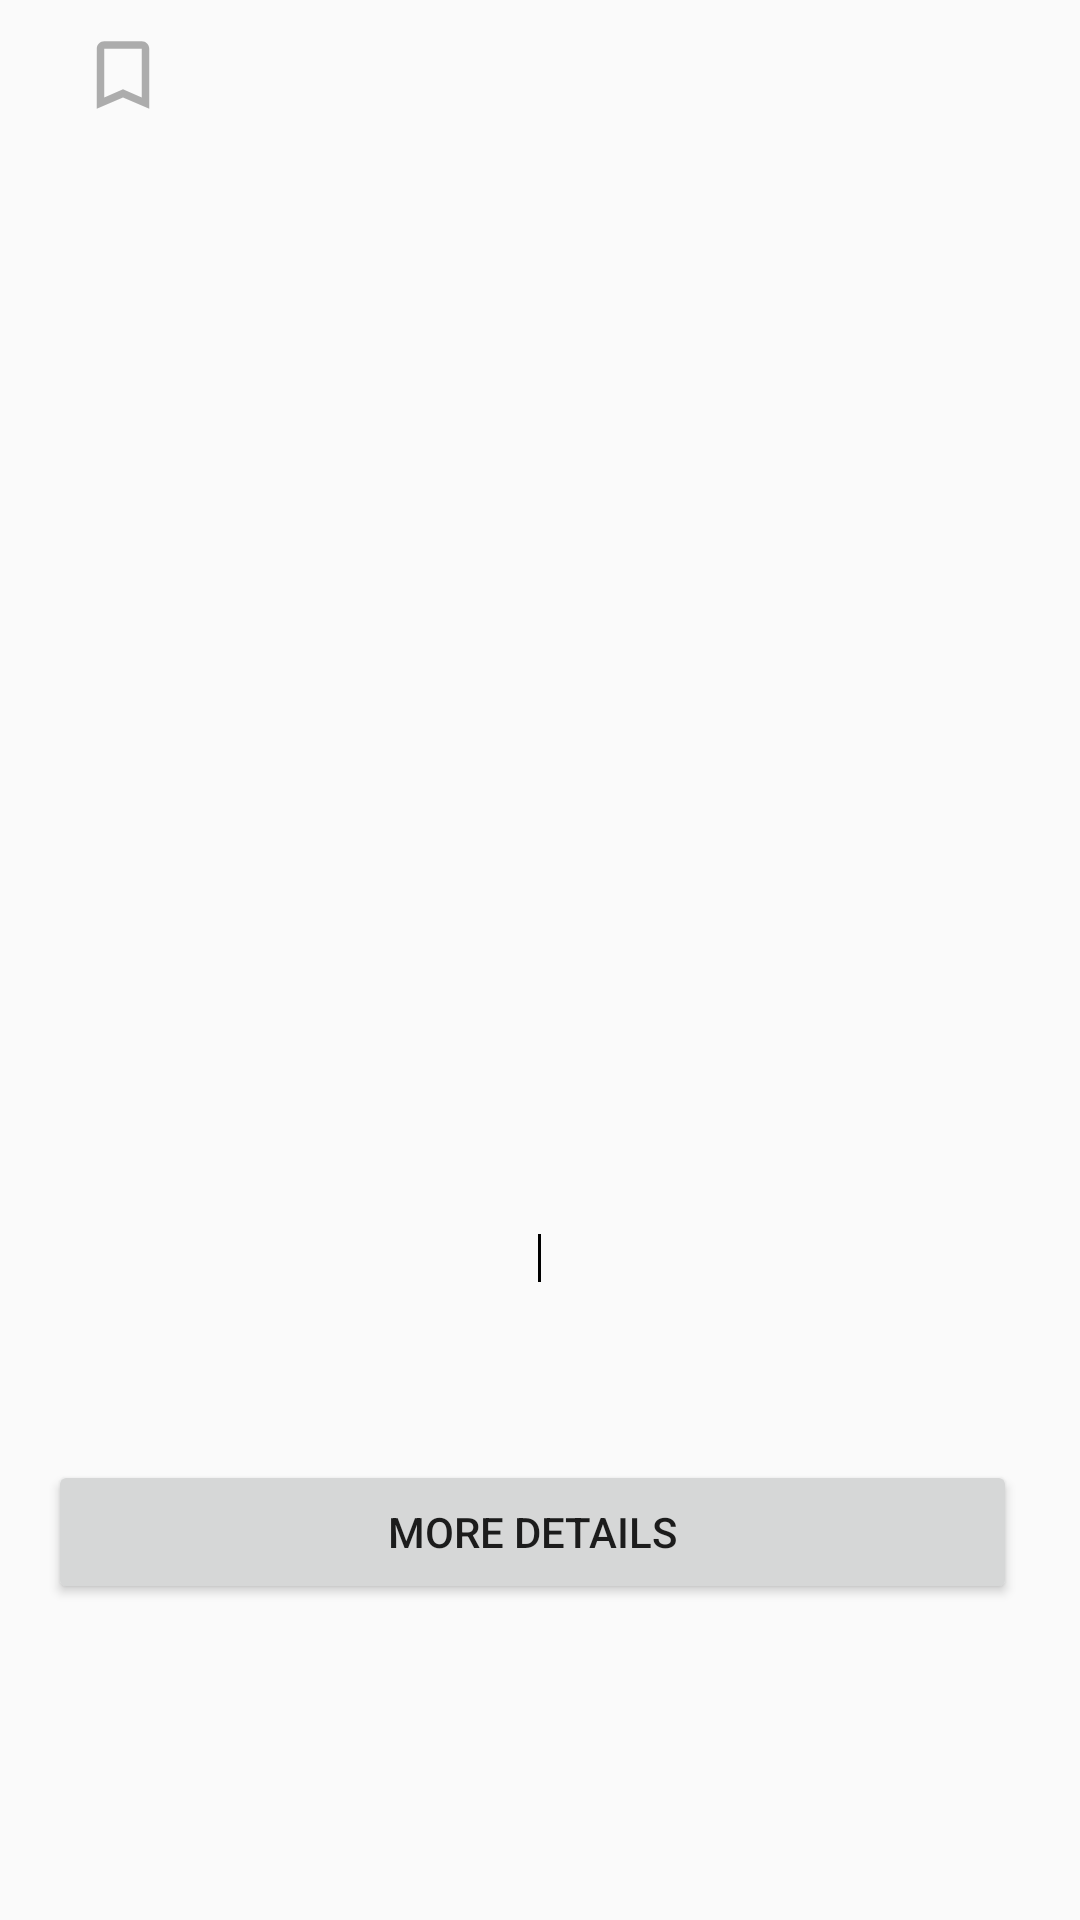

Where icons sit on this 1080 x 1920 app screen, as box=[x1, y1, x2, y2]:
save: box=[97, 41, 149, 109]
